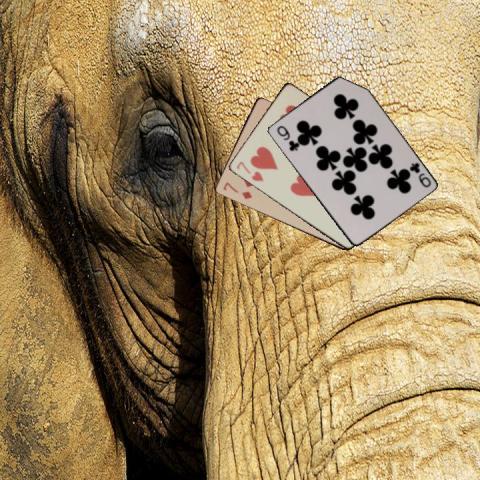7d: (220, 179, 253, 201)
7h: (233, 158, 265, 183)
9c: (274, 122, 300, 152), (406, 159, 432, 189)
